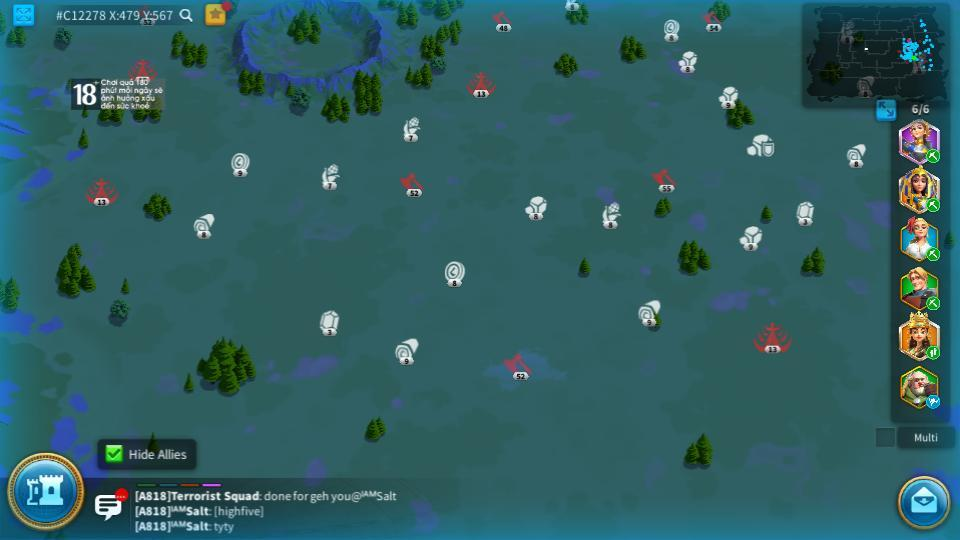gem-z-out: (318, 310, 341, 335), (795, 200, 813, 224)
march_idle: (925, 396, 942, 408)
march_marching: (925, 345, 941, 359), (925, 199, 941, 212), (924, 149, 939, 162), (925, 297, 942, 308)
